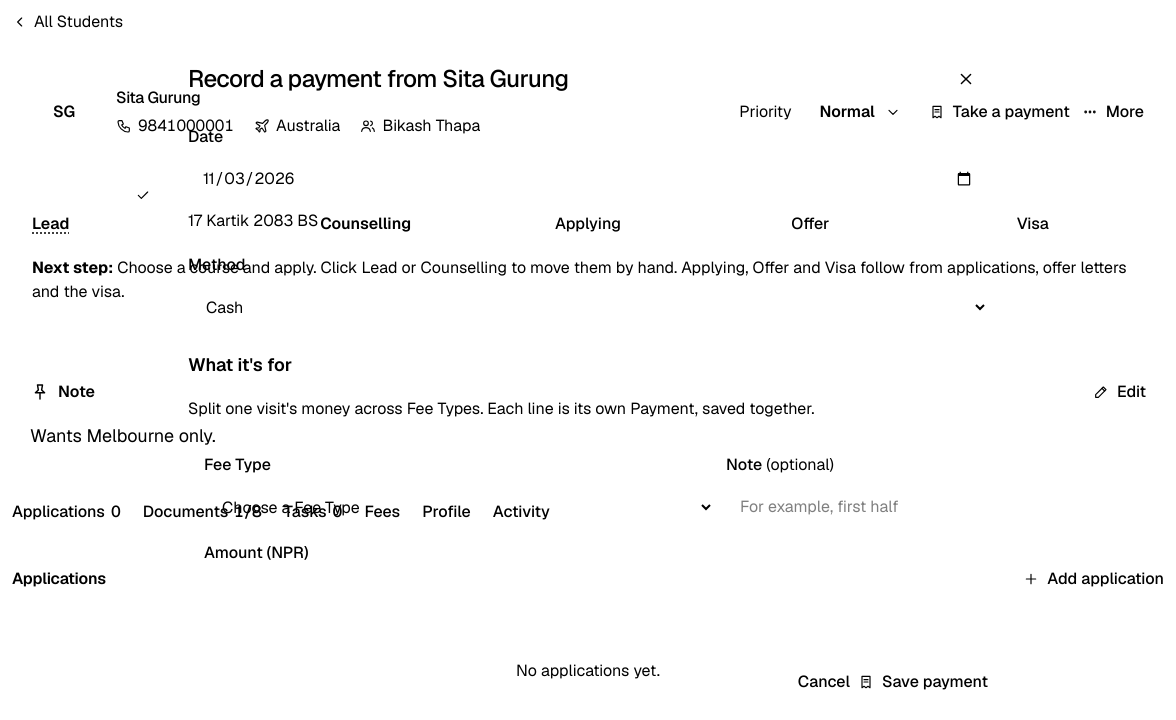
Test: the Fees tab, for an Admin › says when no fees are agreed yet
The image size is (1176, 720).
Step 1. Click the tab "Fees" → (382,512), box [364,490,400,534]
(page scrolled)
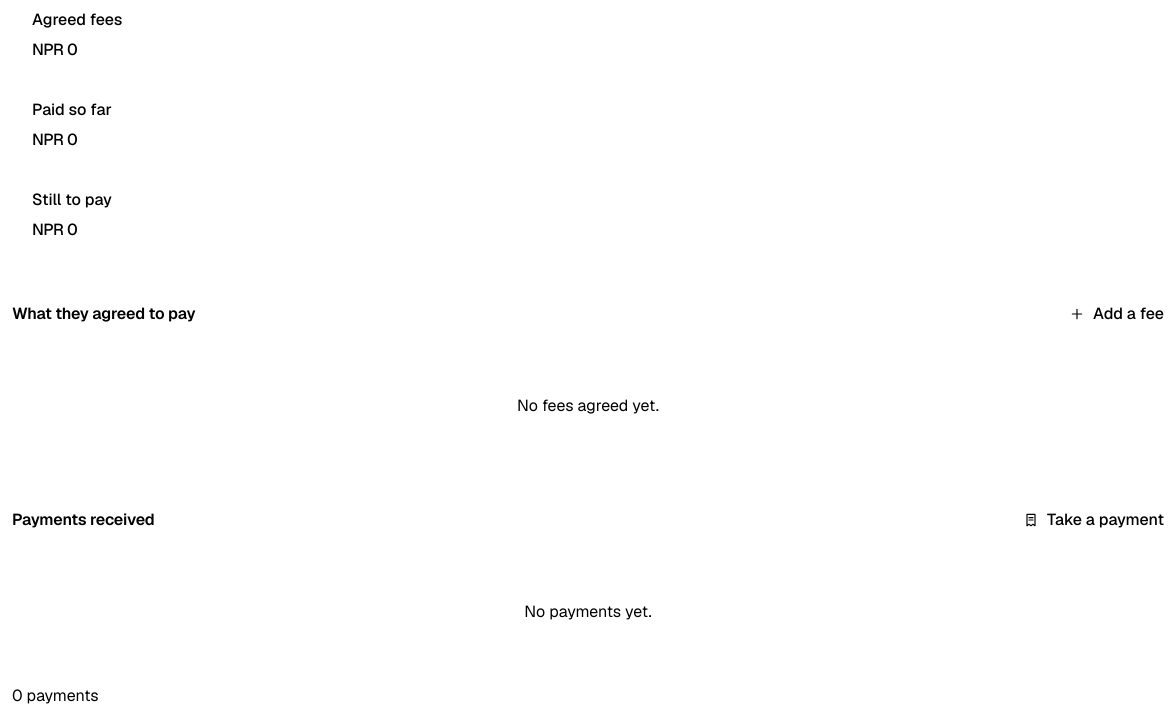
Now the text "No fees agreed yet." is shown, box [517,394,659,418]
